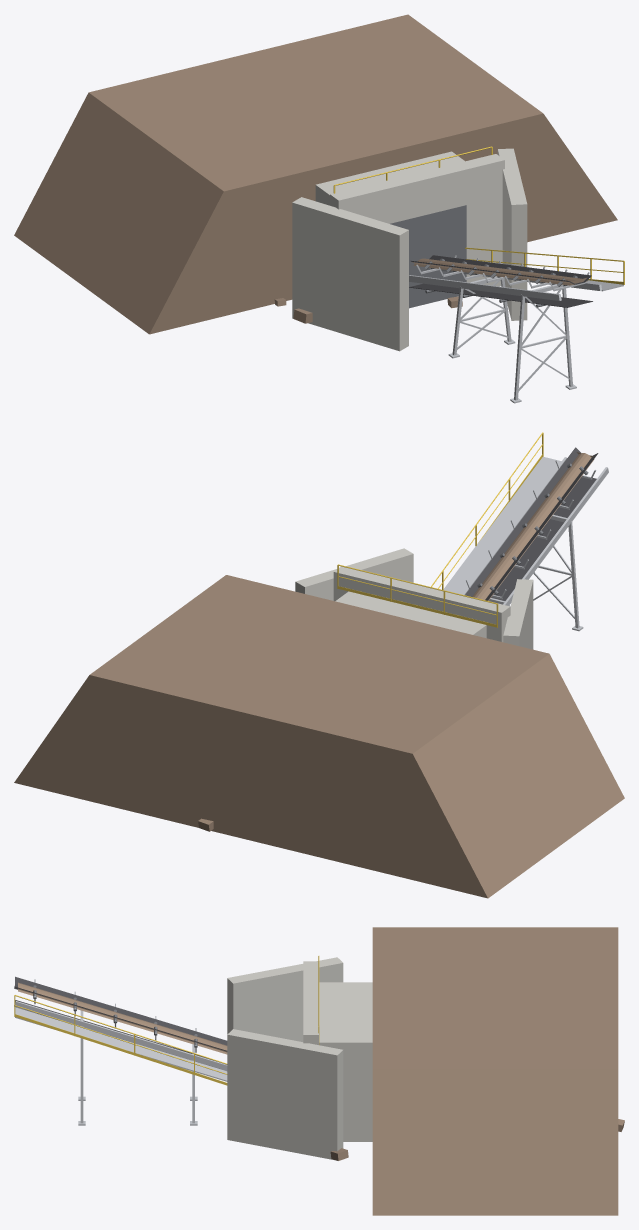
Rendered from ore-processing-and-haulage-plant-reclaim-tunnel-entran-120fdb63.glb.
3 views of the same model, one above another, from view 1: azimuth 30°, elevation 25°; view 2: azimuth 150°, elevation 25°; view 3: azimuth 270°, elevation 25° (orthographic). The views are drawn at different scales.
Parts seen in each view (by area): view 1: reclaim-tunnel-entrance; view 2: reclaim-tunnel-entrance; view 3: reclaim-tunnel-entrance.
Boxes of the visible parts, <box> form: reclaim-tunnel-entrance: <box>14,14,624,403</box>; reclaim-tunnel-entrance: <box>14,432,624,898</box>; reclaim-tunnel-entrance: <box>14,927,624,1215</box>.
Size of the model in its own units: 22 by 6.72 by 27.34.
